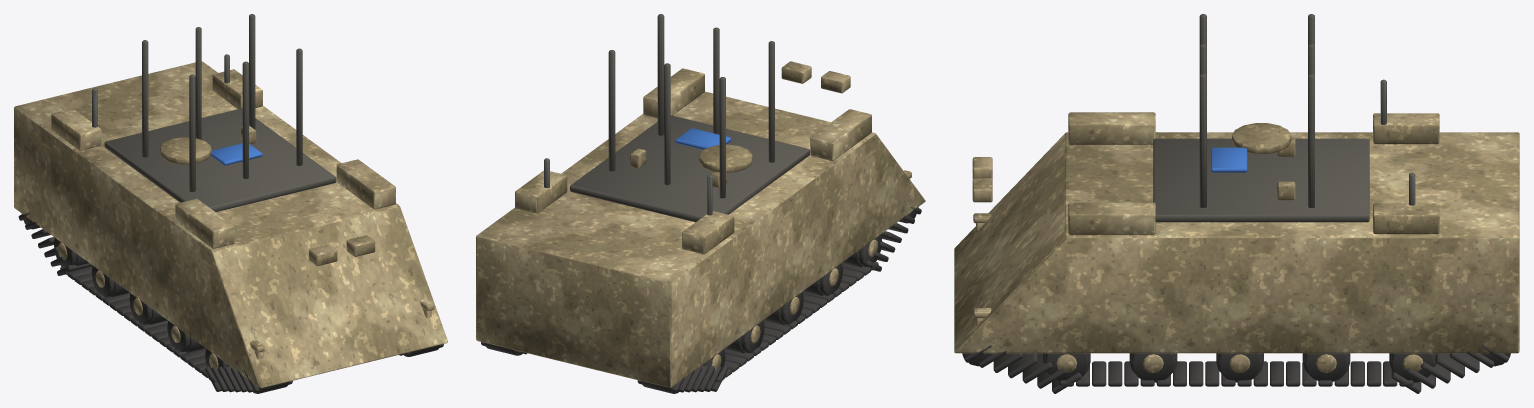
Rendered from cmd_e4_us_command_LOD0.glb.
The picture shows the model from 3 angles, left to right: view 1: azimuth 30°, elevation 25°; view 2: azimuth 150°, elevation 25°; view 3: azimuth 270°, elevation 25°; orthographic projection. The views are drawn at different scales.
Visible parts, largest first — view 1: cmd_e4_us_command_LOD0_body, cmd_e4_us_command_LOD0_deck, cmd_e4_us_command_LOD0_track, cmd_e4_us_command_LOD0_team, cmd_e4_us_command_LOD0_gun; view 2: cmd_e4_us_command_LOD0_body, cmd_e4_us_command_LOD0_deck, cmd_e4_us_command_LOD0_track, cmd_e4_us_command_LOD0_team, cmd_e4_us_command_LOD0_gun; view 3: cmd_e4_us_command_LOD0_body, cmd_e4_us_command_LOD0_deck, cmd_e4_us_command_LOD0_track, cmd_e4_us_command_LOD0_team, cmd_e4_us_command_LOD0_gun.
Boxes of the visible parts, bbox=[...] form: cmd_e4_us_command_LOD0_body: bbox=[14, 61, 447, 388]; cmd_e4_us_command_LOD0_deck: bbox=[104, 14, 336, 211]; cmd_e4_us_command_LOD0_track: bbox=[18, 212, 443, 393]; cmd_e4_us_command_LOD0_team: bbox=[211, 143, 262, 165]; cmd_e4_us_command_LOD0_gun: bbox=[92, 54, 229, 127]; cmd_e4_us_command_LOD0_body: bbox=[476, 61, 925, 387]; cmd_e4_us_command_LOD0_deck: bbox=[570, 14, 809, 222]; cmd_e4_us_command_LOD0_track: bbox=[481, 206, 921, 393]; cmd_e4_us_command_LOD0_team: bbox=[675, 128, 731, 149]; cmd_e4_us_command_LOD0_gun: bbox=[544, 158, 712, 215]; cmd_e4_us_command_LOD0_body: bbox=[954, 112, 1519, 372]; cmd_e4_us_command_LOD0_deck: bbox=[1153, 14, 1369, 222]; cmd_e4_us_command_LOD0_track: bbox=[962, 345, 1510, 393]; cmd_e4_us_command_LOD0_team: bbox=[1211, 147, 1247, 172]; cmd_e4_us_command_LOD0_gun: bbox=[1380, 79, 1415, 205].
Bounding box in the file's own units: 3 × 3.94 × 6.79.
Materials: 5 (1 with a texture image).
